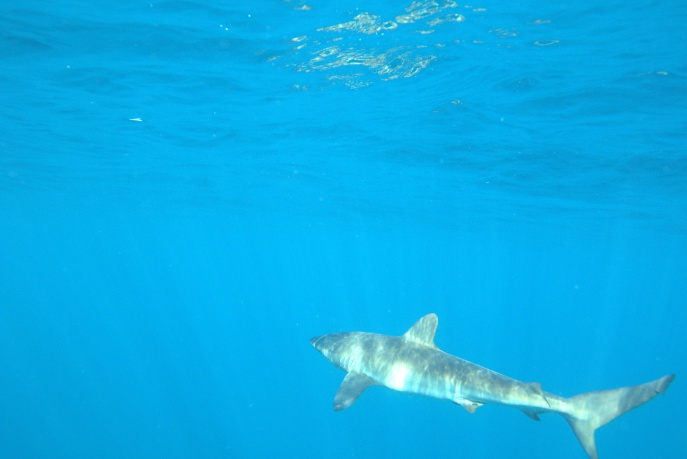Sedoso: (291, 311, 681, 459)
